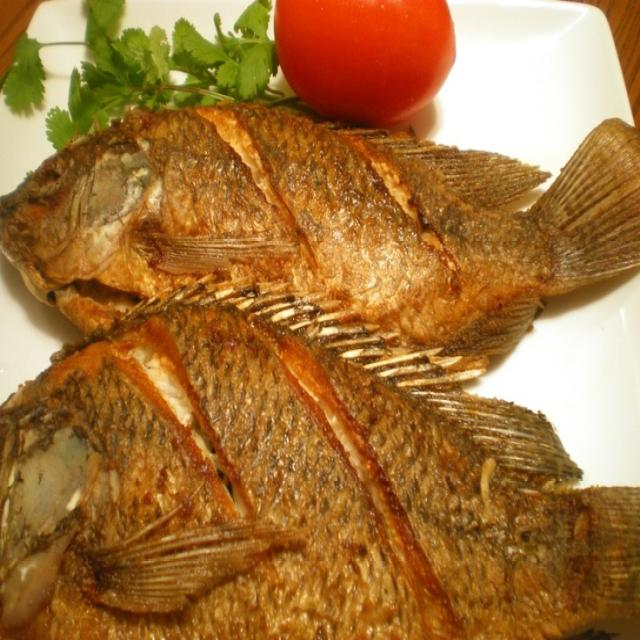Peixe: (0, 298, 638, 639), (0, 98, 638, 376)
